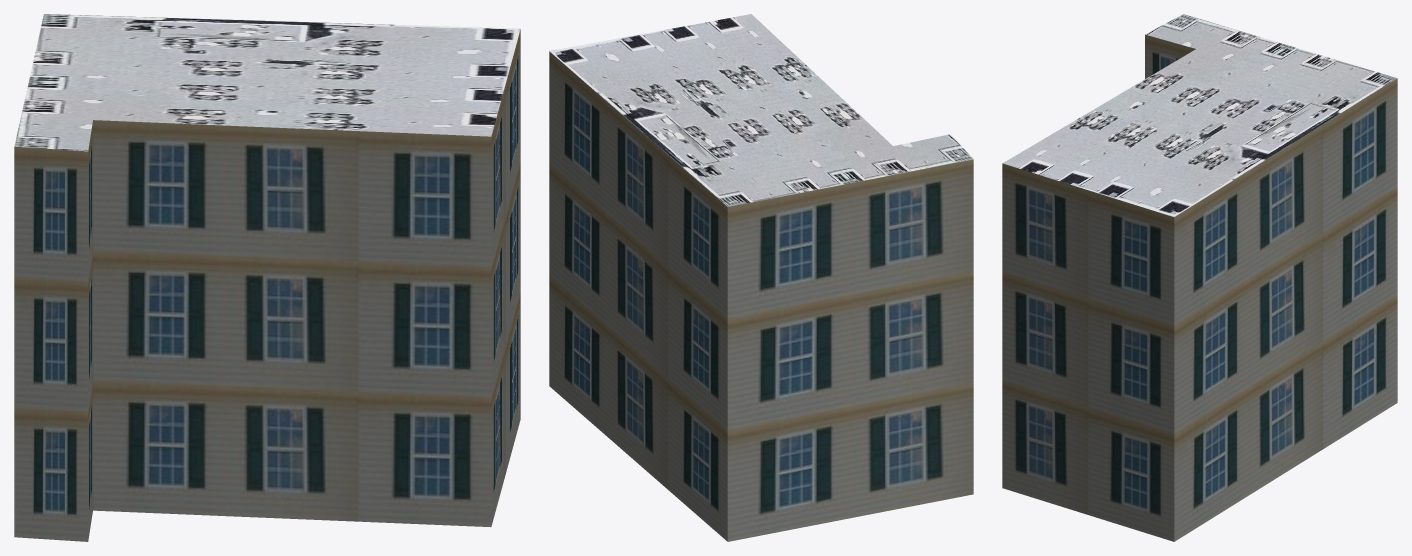
File: ResTex__737.fbx
The picture shows the model from 3 angles, left to right: view 1: azimuth 30°, elevation 25°; view 2: azimuth 150°, elevation 25°; view 3: azimuth 270°, elevation 25°; orthographic projection. The views are drawn at different scales.
Visible parts, largest first — view 1: CityEngineMaterial_7_m, CityEngineMaterial_8_m; view 2: CityEngineMaterial_7_m, CityEngineMaterial_8_m; view 3: CityEngineMaterial_7_m, CityEngineMaterial_8_m.
Part boxes in pixels (<box>): CityEngineMaterial_7_m: <box>14,29,520,541</box>; CityEngineMaterial_8_m: <box>14,14,520,151</box>; CityEngineMaterial_7_m: <box>549,51,973,541</box>; CityEngineMaterial_8_m: <box>549,14,973,206</box>; CityEngineMaterial_7_m: <box>1002,34,1397,541</box>; CityEngineMaterial_8_m: <box>1003,14,1396,216</box>.
Bounding box in the file's own units: 12.08 × 9 × 9.92.
Materials: 2 (2 with a texture image).
